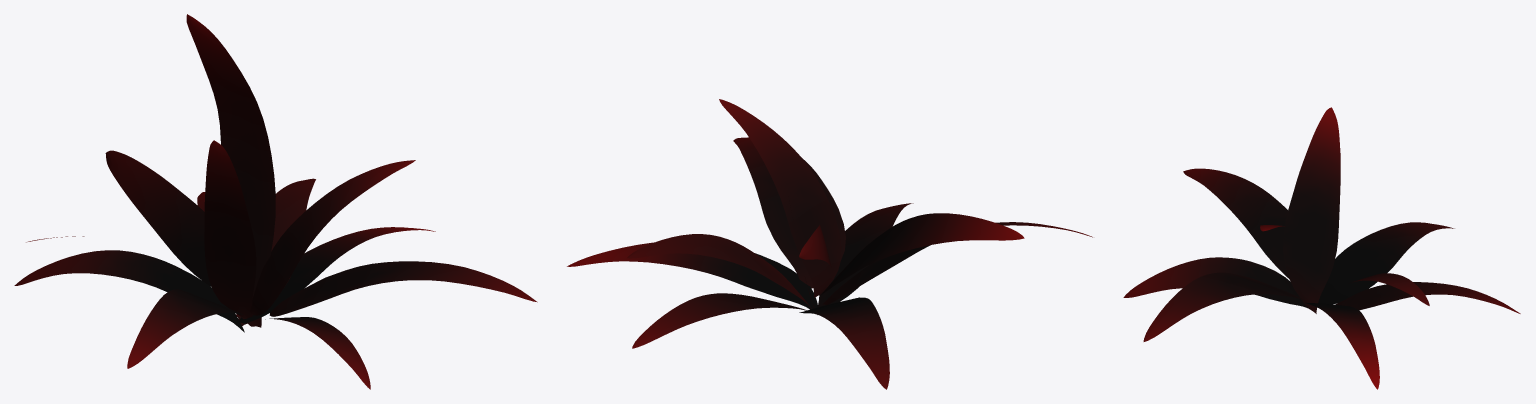
File: S_Evni_Wlbl_Aquatic_13.gltf
The picture shows the model from 3 angles, left to right: view 1: azimuth 30°, elevation 25°; view 2: azimuth 150°, elevation 25°; view 3: azimuth 270°, elevation 25°; orthographic projection. The views are drawn at different scales.
Visible parts, largest first — view 1: S_Evni_Wlbl_Aquatic_13; view 2: S_Evni_Wlbl_Aquatic_13; view 3: S_Evni_Wlbl_Aquatic_13.
Boxes of the visible parts, x1=… form: S_Evni_Wlbl_Aquatic_13: x1=14, y1=14, x2=537, y2=389; S_Evni_Wlbl_Aquatic_13: x1=567, y1=99, x2=1092, y2=389; S_Evni_Wlbl_Aquatic_13: x1=1123, y1=107, x2=1520, y2=389.
Bounding box in the file's own units: 0.5321 × 0.3742 × 0.4886.
